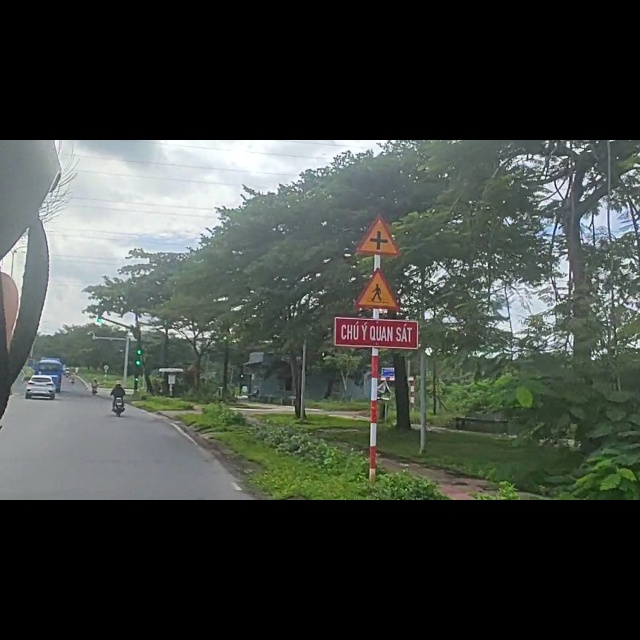bien_nguy_hiem: (355, 223, 404, 300), (355, 133, 401, 209)
